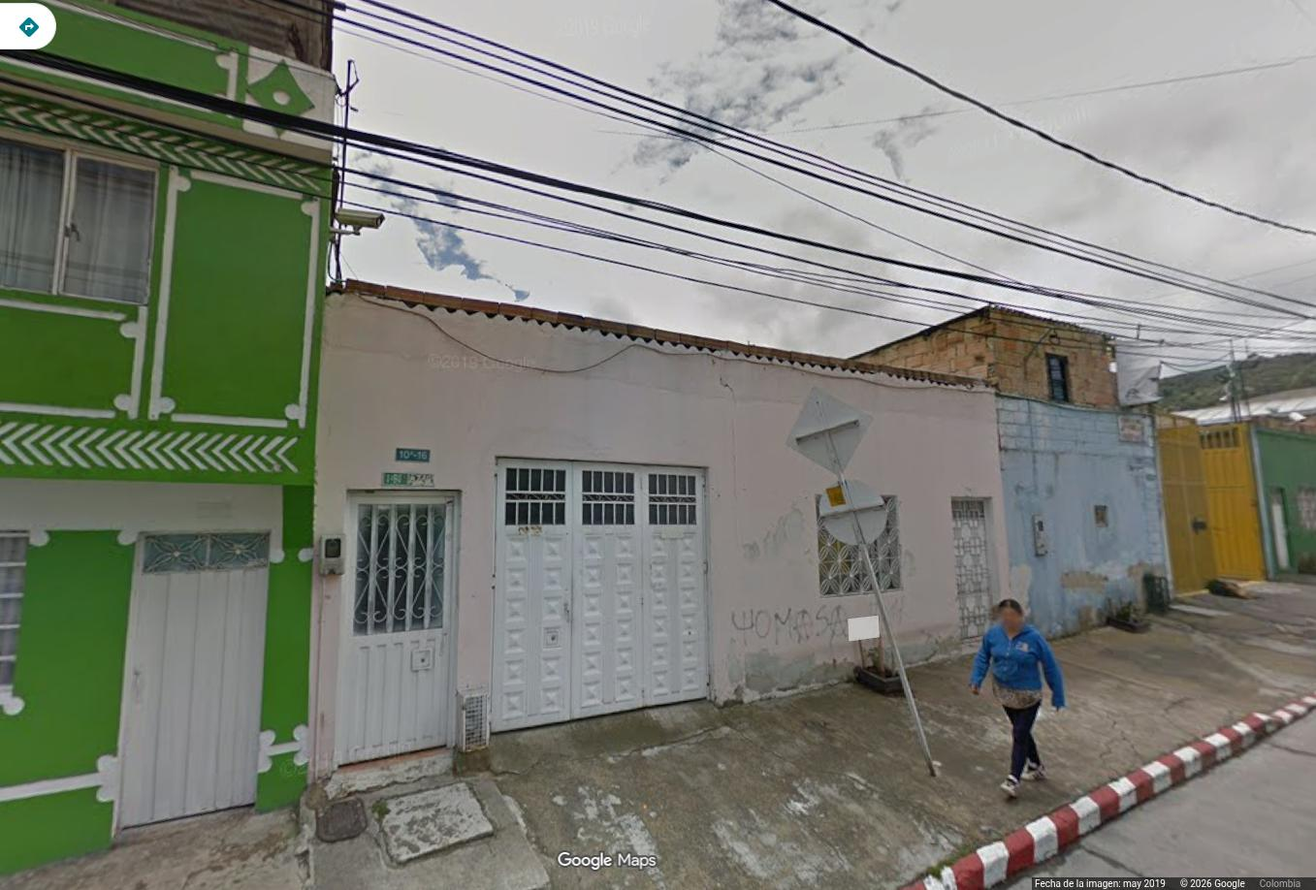casa: (312, 281, 1012, 771), (0, 0, 349, 874)
